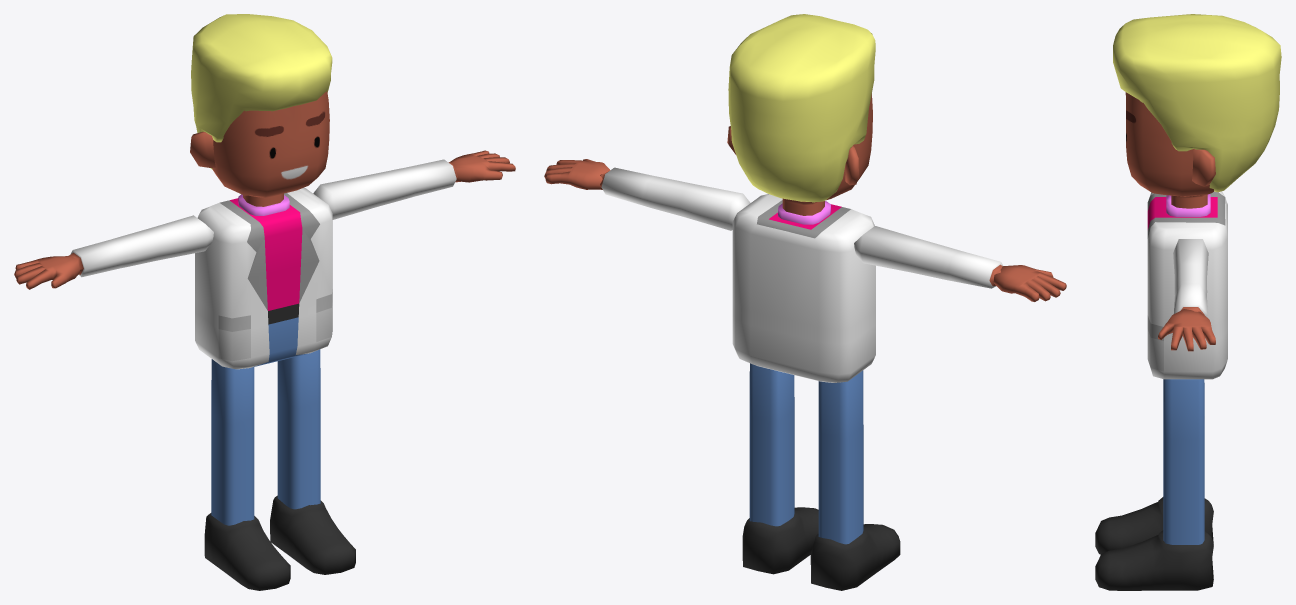
File: NPC_Black01_BlondeHair06.gltf
The picture shows the model from 3 angles, left to right: view 1: azimuth 30°, elevation 25°; view 2: azimuth 150°, elevation 25°; view 3: azimuth 270°, elevation 25°; orthographic projection. The views are drawn at different scales.
Visible parts, largest first — view 1: NPC_Corpo_Black1_BlondeHair.006; view 2: NPC_Corpo_Black1_BlondeHair.006; view 3: NPC_Corpo_Black1_BlondeHair.006.
Boxes of the visible parts, left/top/right/bottom form: NPC_Corpo_Black1_BlondeHair.006: left=14, top=14, right=515, bottom=590; NPC_Corpo_Black1_BlondeHair.006: left=544, top=14, right=1066, bottom=590; NPC_Corpo_Black1_BlondeHair.006: left=1095, top=14, right=1281, bottom=590.
Size of the model in its own units: 2.31 by 2.31 by 0.7282.
Materials: 1 (1 with a texture image).
